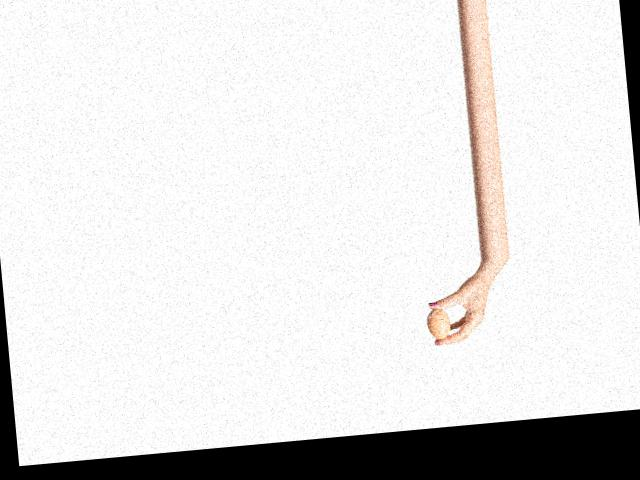egg: (427, 307, 451, 340)
